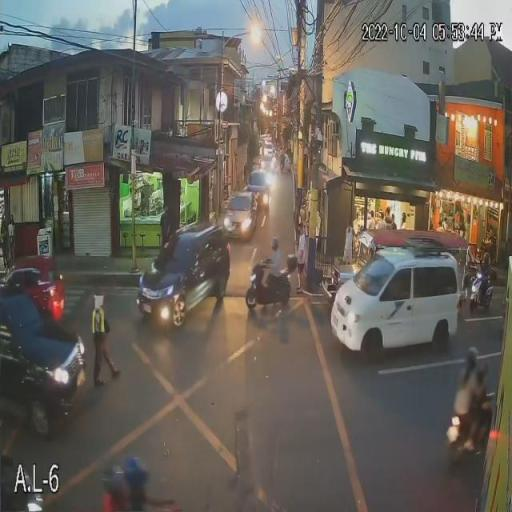helmet: (465, 346, 481, 366), (480, 360, 491, 378), (268, 236, 280, 251)
motorcycle: (445, 394, 494, 456), (243, 267, 293, 309)
rider: (457, 368, 475, 450), (477, 384, 492, 450), (266, 252, 282, 297)
